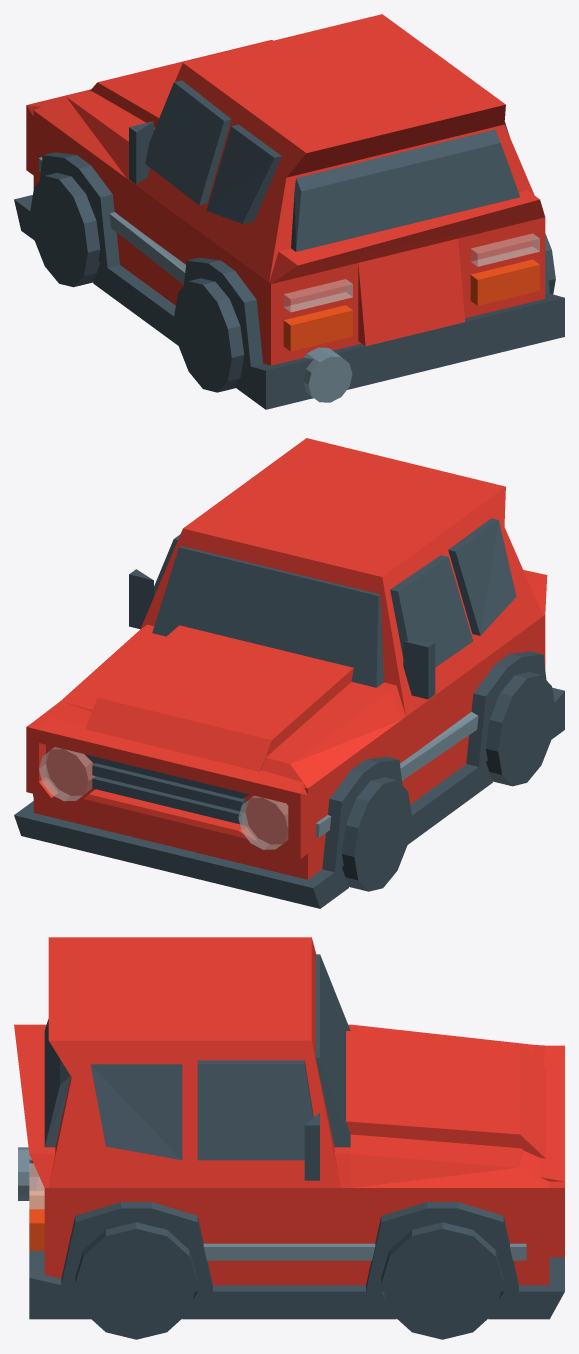
File: scene_MEYGVJykXN.glb
3 renders of one model, top to bottom at view 1: azimuth 30°, elevation 25°; view 2: azimuth 150°, elevation 25°; view 3: azimuth 270°, elevation 25°, orthographic. The views are drawn at different scales.
Visible parts, largest first — view 1: group2017902997, group373236087, group2118011109, group547768100, group359046379, group686971371, group2060816111, group1129954348, group1603761372, group1729932470, group740239471, group2008520726 (+5 smaller); view 2: group2017902997, group583836635, group1372723494, group547768100, group1092676882, group2060816111, group686971371, group2044362016, group10036750, group1729932470, group740239471, group2008520726 (+3 smaller); view 3: group2017902997, group842921121, group2060816111, group686971371, group2008520726, group1372723494, group159400031, group1903564485, group583836635, group116960146, group2118011109, group1092676882 (+4 smaller).
Boxes of the visible parts, x1,y1,x2,y2 form: group2017902997: (33,14,545,365); group373236087: (291,129,519,251); group2118011109: (233,293,564,409); group547768100: (145,80,281,223); group359046379: (358,238,465,346); group686971371: (174,233,555,392); group2060816111: (30,173,100,287); group1129954348: (283,279,352,351); group1603761372: (470,233,539,305); group1729932470: (39,152,119,267); group740239471: (183,257,263,366); group2008520726: (93,263,178,345); group2017902997: (33,438,547,879); group583836635: (152,546,383,687); group1372723494: (26,717,314,858); group547768100: (390,518,516,667); group1092676882: (14,801,348,908); group2060816111: (33,777,411,891); group686971371: (486,672,555,786); group2044362016: (84,754,249,824); group10036750: (39,747,287,849); group1729932470: (322,756,402,872); group740239471: (466,651,546,766); group2008520726: (408,762,492,844); group2017902997: (14,937,549,1285); group842921121: (90,1060,313,1160); group2060816111: (381,1222,503,1339); group686971371: (75,1222,197,1339); group2008520726: (182,1285,396,1319); group1372723494: (534,1045,564,1257); group159400031: (366,1202,518,1291); group1903564485: (61,1202,212,1291); group583836635: (315,954,350,1147); group116960146: (203,1243,526,1260); group2118011109: (29,1159,90,1319); group1092676882: (488,1257,564,1319).
Size of the model in its own units: 0.26 by 0.1923 by 0.36.
